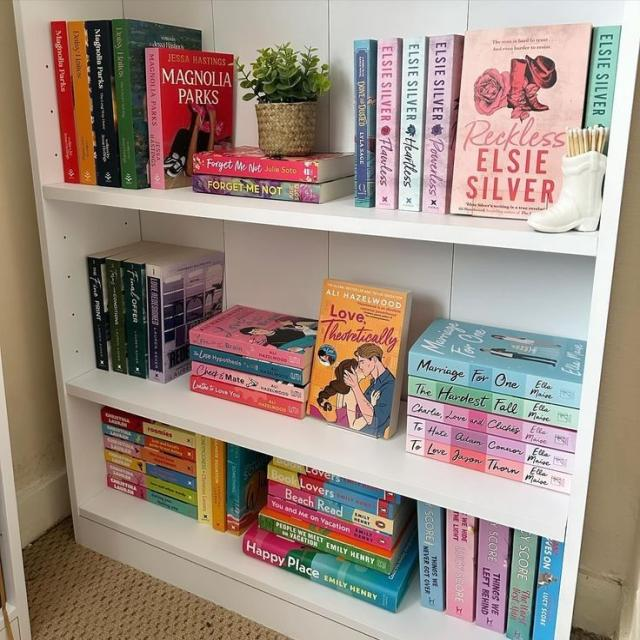book: (244, 536, 398, 613), (408, 352, 583, 409), (406, 416, 575, 475), (407, 435, 572, 495), (408, 396, 576, 453), (409, 376, 577, 429), (257, 515, 392, 575), (422, 36, 463, 214), (269, 479, 393, 535), (268, 464, 392, 519), (267, 496, 390, 549), (272, 457, 400, 504), (112, 19, 146, 189), (85, 21, 118, 186), (66, 21, 96, 184), (191, 361, 305, 402), (190, 344, 304, 385), (398, 37, 425, 210), (190, 376, 301, 418), (190, 329, 304, 369), (51, 21, 79, 183), (375, 39, 401, 209), (475, 520, 511, 633), (107, 475, 197, 520), (106, 462, 198, 506), (105, 449, 196, 492), (354, 40, 377, 207), (505, 530, 539, 639), (104, 436, 196, 476), (194, 174, 320, 203), (445, 510, 477, 621), (102, 410, 195, 448), (192, 155, 316, 183), (103, 424, 196, 461), (532, 537, 563, 639), (416, 501, 444, 611), (123, 261, 149, 378), (144, 46, 165, 187), (87, 257, 110, 370), (105, 256, 126, 373), (146, 264, 163, 380), (196, 433, 213, 524), (226, 444, 241, 538), (212, 439, 226, 532)
plants: (236, 43, 330, 157)
